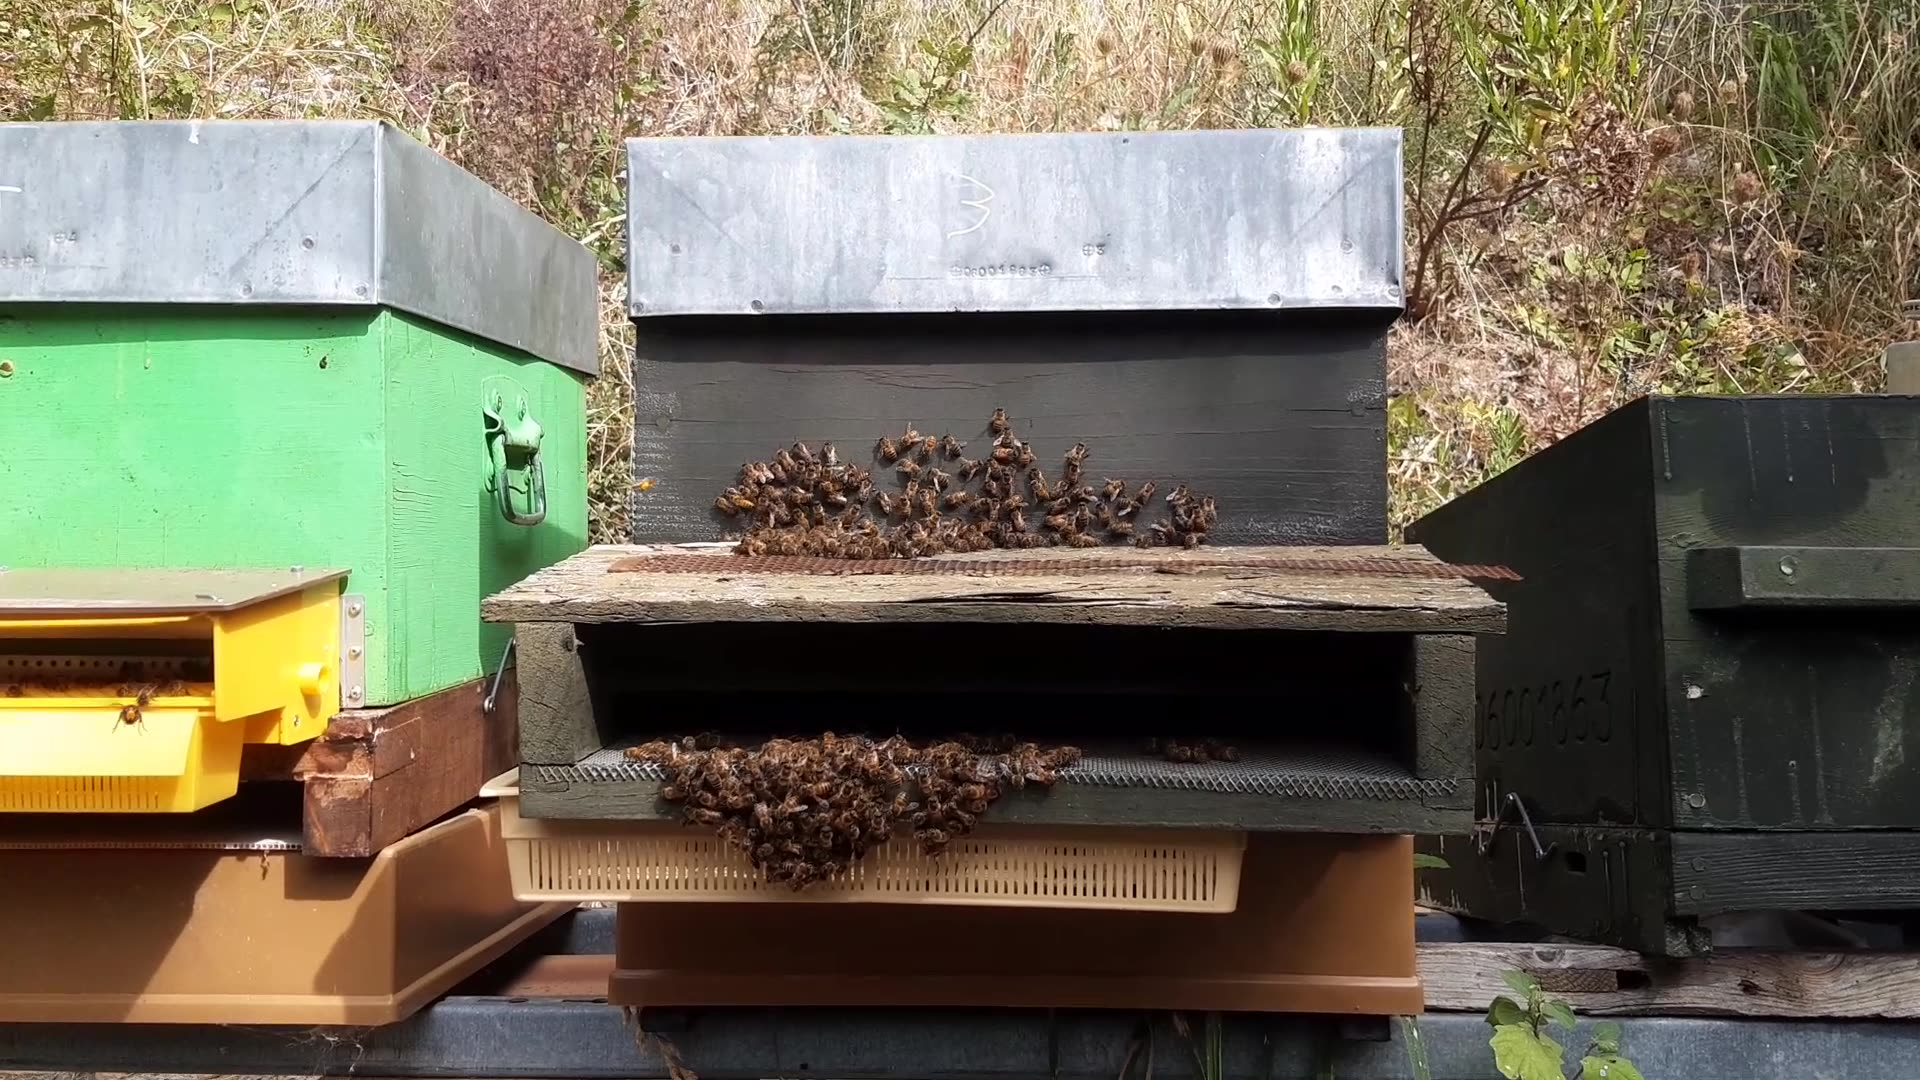bee: (891, 815, 969, 885), (633, 746, 720, 806), (709, 732, 803, 781), (1142, 495, 1224, 550), (1007, 740, 1095, 790), (956, 505, 1029, 559), (1040, 501, 1108, 553), (720, 506, 791, 553), (1022, 468, 1083, 521), (960, 425, 1025, 473), (858, 518, 928, 563), (825, 454, 901, 492), (733, 462, 800, 504), (872, 442, 939, 483)
